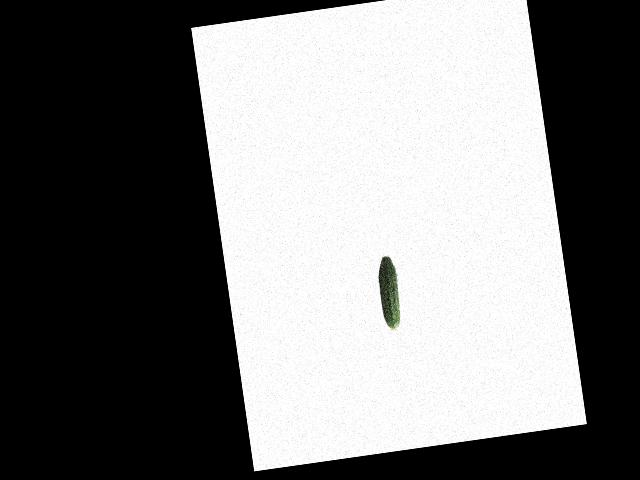cucumber: (375, 254, 403, 330)
